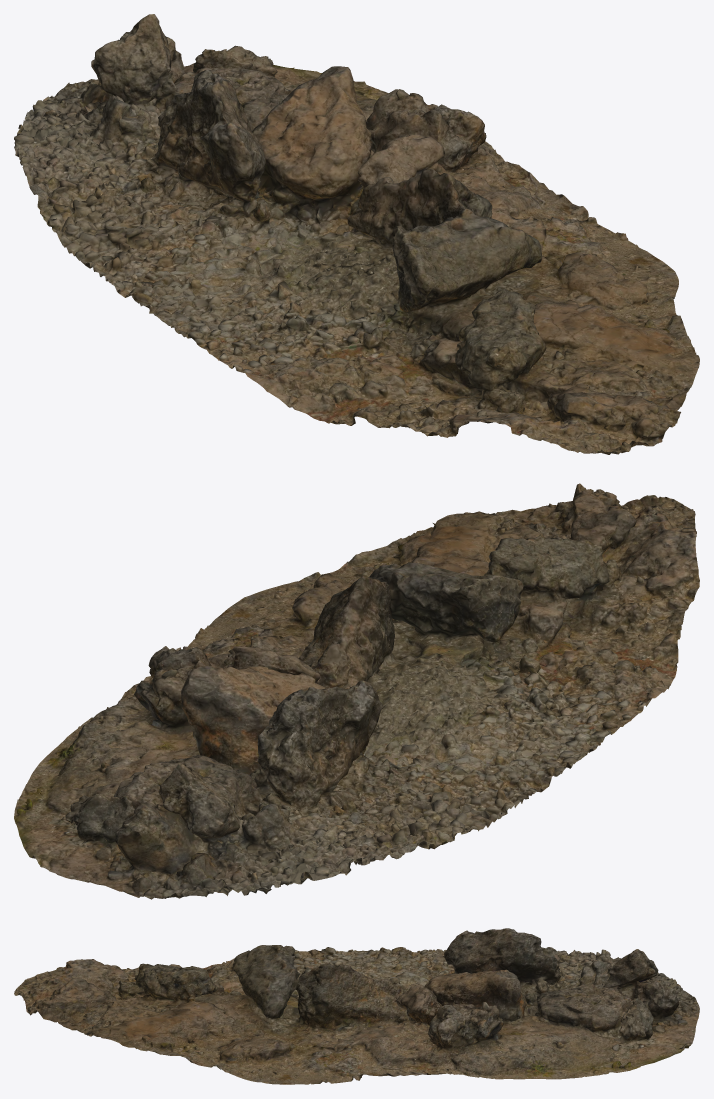
The model's file is coast_land_rocks_02.glb.
3 renders of one model, top to bottom at view 1: azimuth 30°, elevation 25°; view 2: azimuth 150°, elevation 25°; view 3: azimuth 270°, elevation 25°, orthographic. The views are drawn at different scales.
Visible parts, largest first — view 1: coast_land_rocks_02; view 2: coast_land_rocks_02; view 3: coast_land_rocks_02.
Part boxes in pixels (left/top/right/bottom): coast_land_rocks_02: left=14, top=14, right=699, bottom=454; coast_land_rocks_02: left=14, top=483, right=699, bottom=899; coast_land_rocks_02: left=14, top=928, right=699, bottom=1084.
Size of the model in its own units: 4.89 by 1.39 by 10.45.
1 material, 1 textured.
